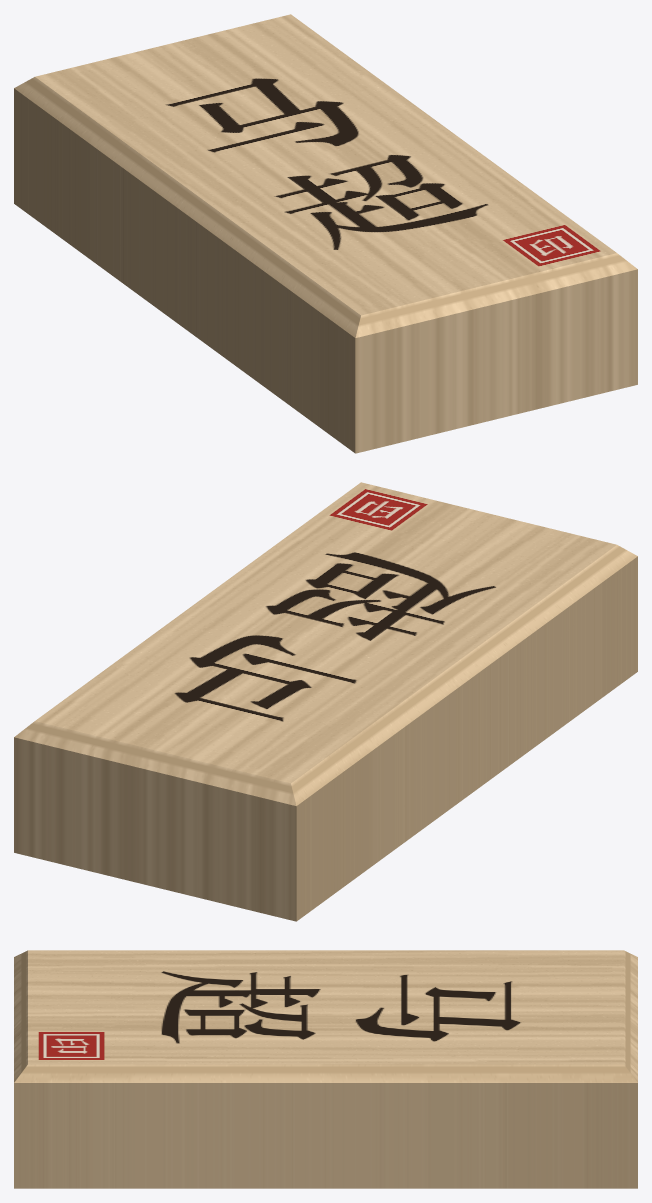
File: tile_ma.glb
3 renders of one model, top to bottom at view 1: azimuth 30°, elevation 25°; view 2: azimuth 150°, elevation 25°; view 3: azimuth 270°, elevation 25°, orthographic. The views are drawn at different scales.
Parts seen in each view (by area): view 1: tile_ma; view 2: tile_ma; view 3: tile_ma.
Part boxes in pixels (x1,y1,x2,y2): tile_ma: (14, 14, 637, 453); tile_ma: (14, 482, 637, 921); tile_ma: (14, 950, 637, 1188).
Size of the model in its own units: 0.064 by 0.028 by 0.134.
Materials: 1 (1 with a texture image).
